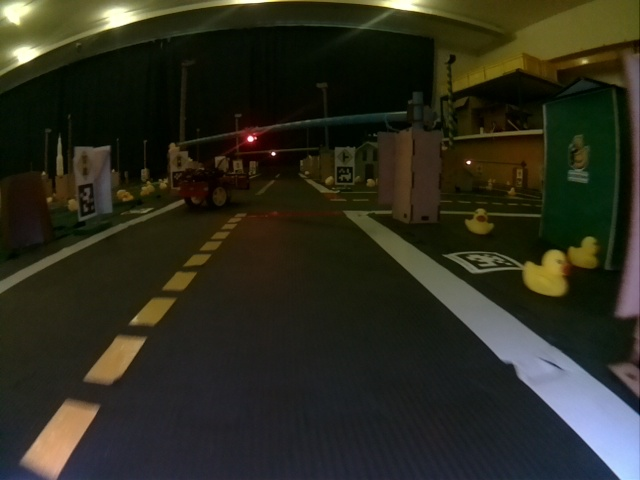Duckie: (524, 251, 569, 297), (571, 236, 599, 269), (466, 208, 494, 235), (122, 192, 132, 201), (507, 187, 516, 196), (366, 179, 375, 188), (140, 187, 149, 196), (325, 176, 334, 185)
Duckiebot: (179, 170, 250, 210)
Intersection sign: (337, 148, 353, 164)
QR code: (445, 252, 522, 273), (78, 183, 96, 217), (337, 167, 353, 183)
Signal sign: (76, 150, 93, 179)
Traffic light: (245, 127, 257, 143), (270, 149, 276, 157)
